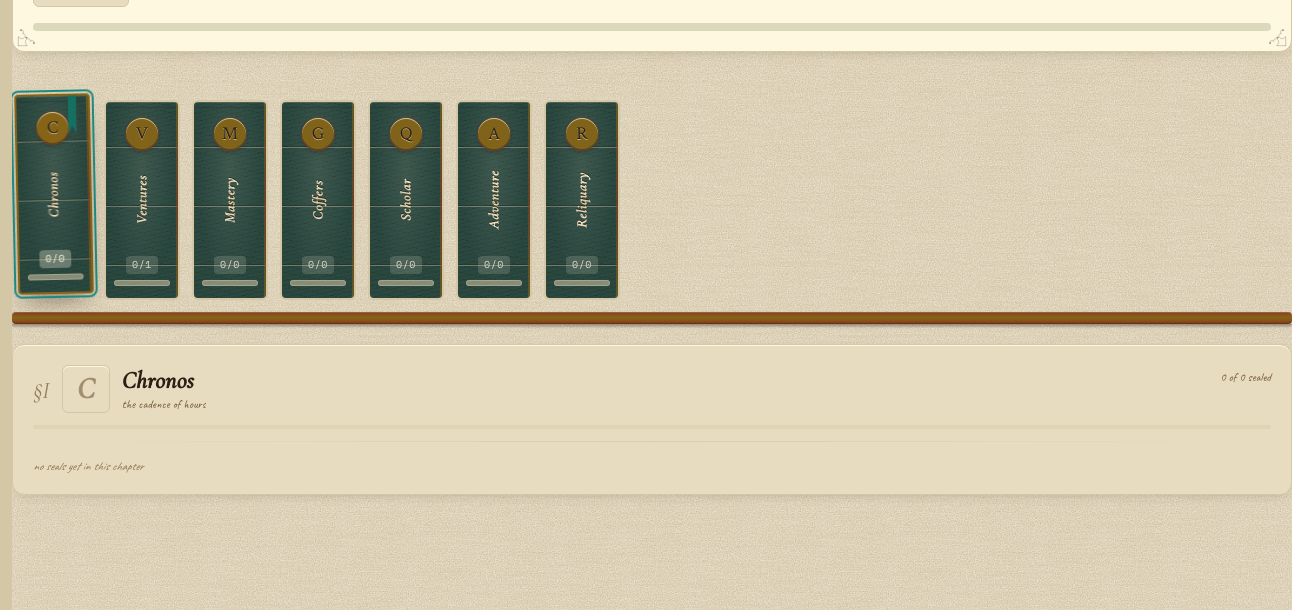
Test: SigilCodex › opens only the active chapter's folio at any time
This screenshot has width=1292, height=610.
Check: the element "Chronos" is shown, box [12,344,1291,495]
Click the tab "V Ventures 0/1" at coordinates (142, 200), box [104,100,180,300]
(page scrolled)
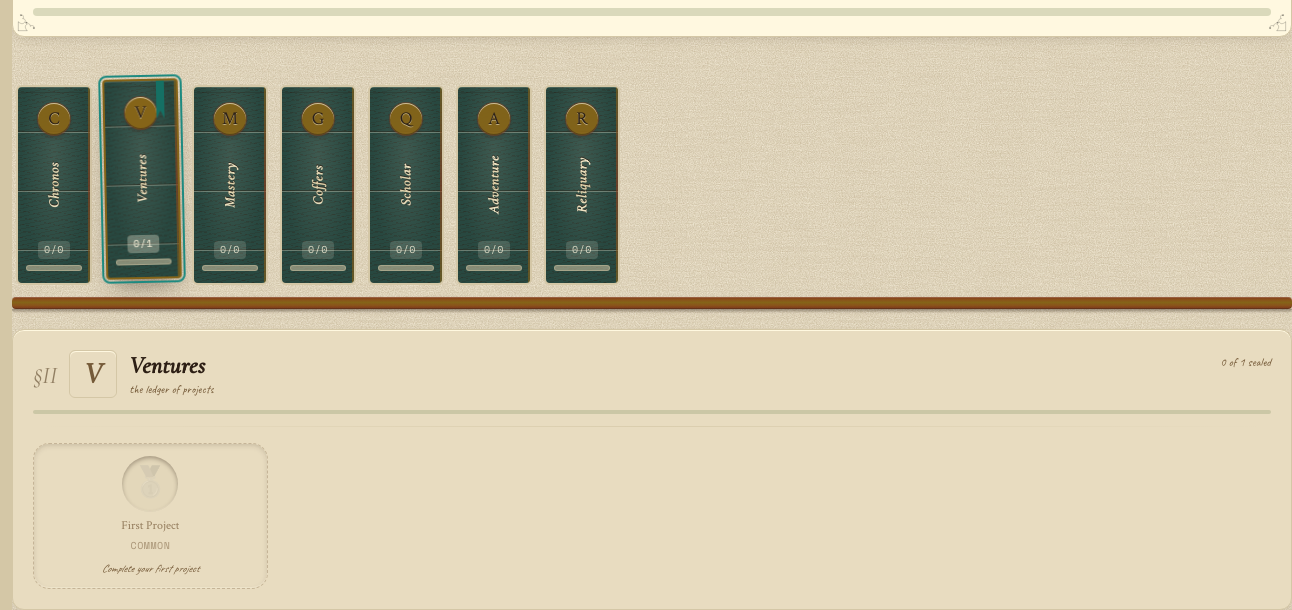
Check: the element "Ventures" is shown, box [12,329,1291,609]
